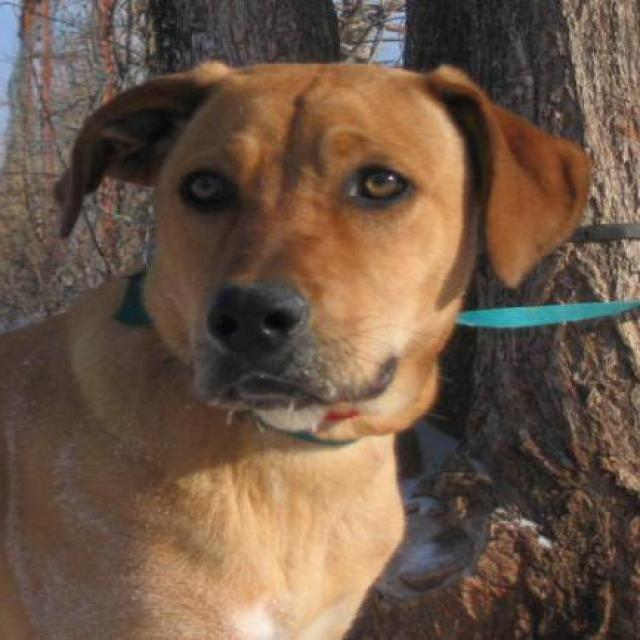dogs: (0, 29, 566, 640)
